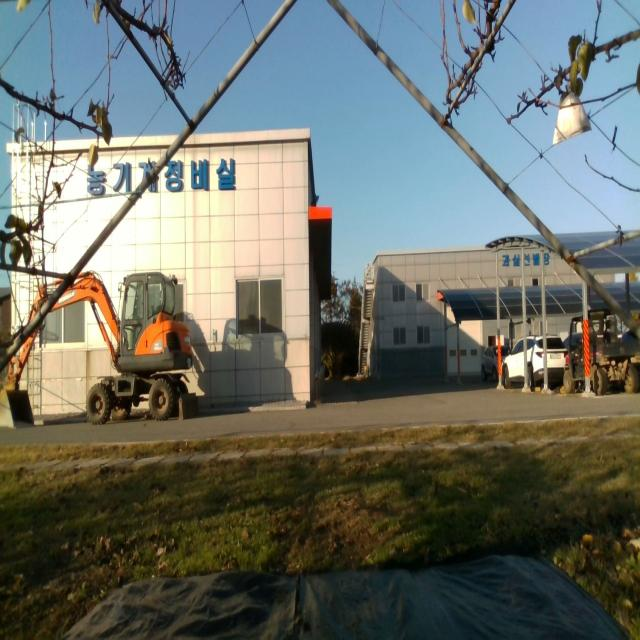pearbags: (551, 91, 591, 148)
